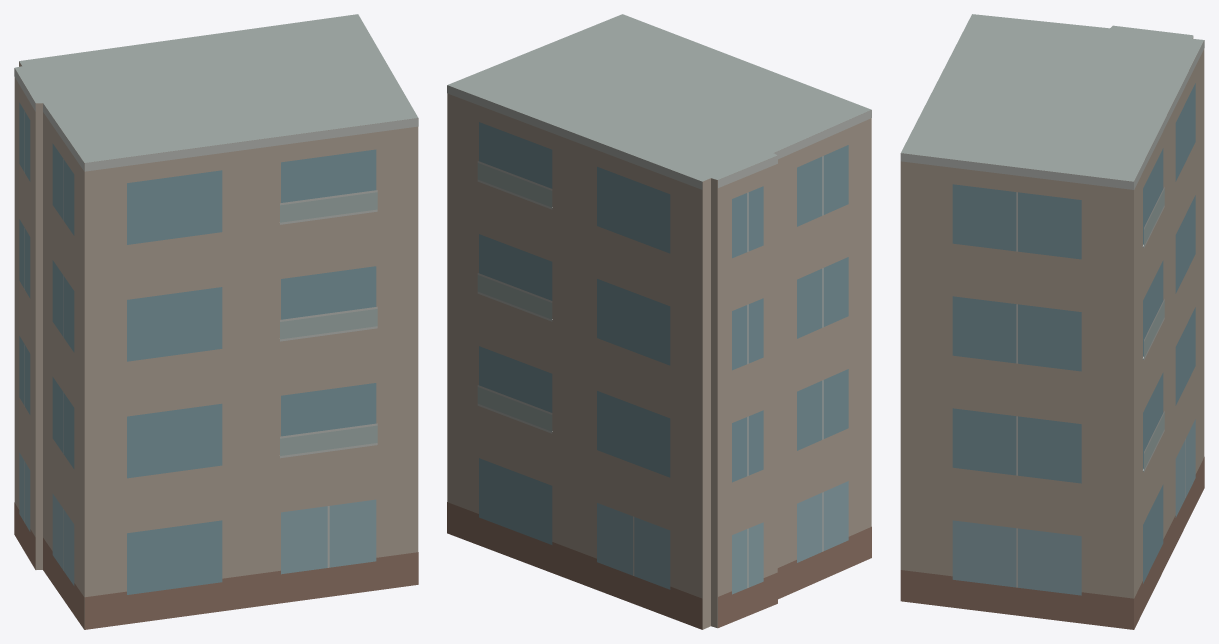
File: survey-upis-32464442.glb
3 renders of one model, left to right at view 1: azimuth 30°, elevation 25°; view 2: azimuth 150°, elevation 25°; view 3: azimuth 270°, elevation 25°, orthographic. The views are drawn at different scales.
Visible parts, largest first — view 1: survey-upis-32464442.tmp; view 2: survey-upis-32464442.tmp; view 3: survey-upis-32464442.tmp.
Part boxes in pixels (left/top/right/bottom): survey-upis-32464442.tmp: left=14, top=14, right=418, bottom=629; survey-upis-32464442.tmp: left=447, top=14, right=871, bottom=629; survey-upis-32464442.tmp: left=900, top=14, right=1204, bottom=629.
Bounding box in the file's own units: 10.6 × 13.2 × 8.12.
